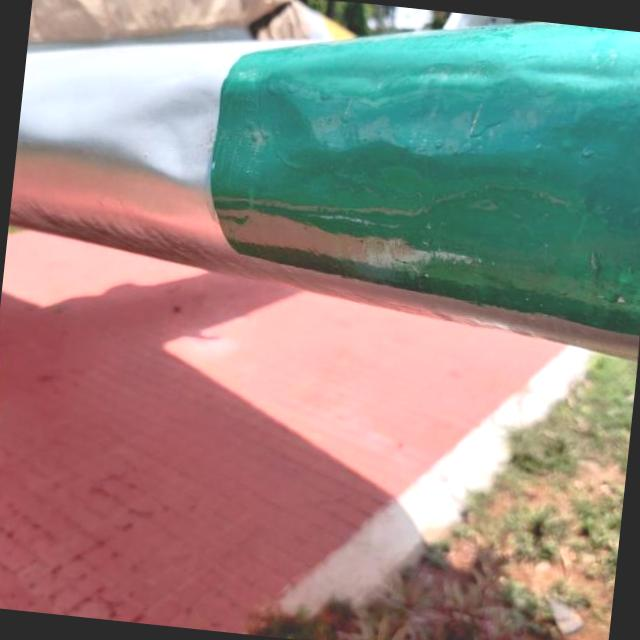dent: (246, 145, 593, 287), (348, 47, 575, 178), (212, 71, 366, 193), (98, 52, 231, 182)
